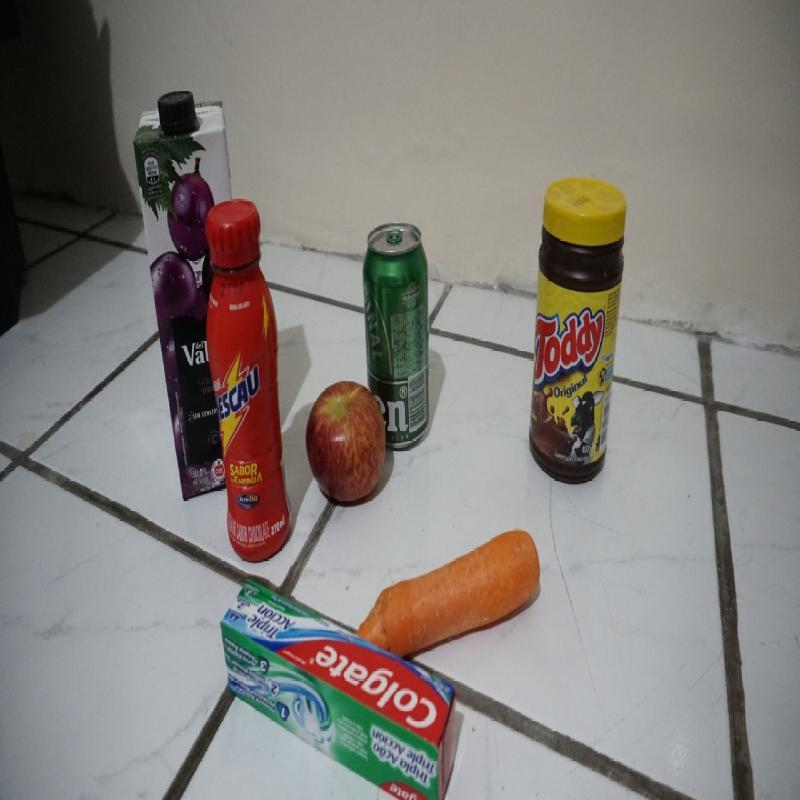Apple: (306, 379, 387, 504)
Beer can: (363, 220, 431, 452)
Carrot: (354, 527, 542, 654)
Chocolate Milk: (203, 199, 294, 564)
Chocolate Powder: (528, 178, 628, 482)
Toothpaste: (221, 579, 458, 800)
